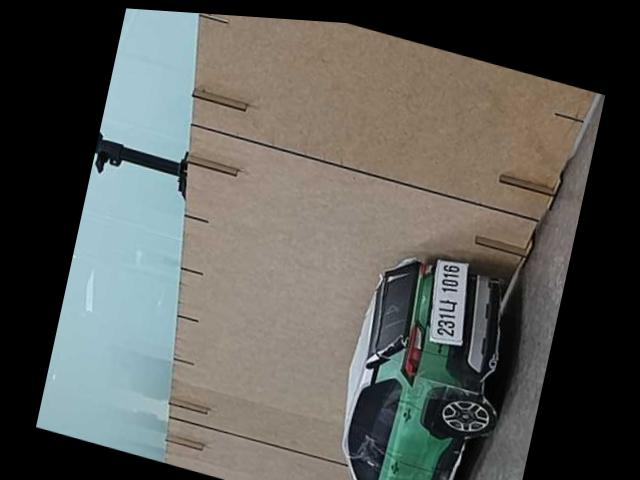car: (318, 232, 529, 480)
id: (422, 254, 478, 349)
